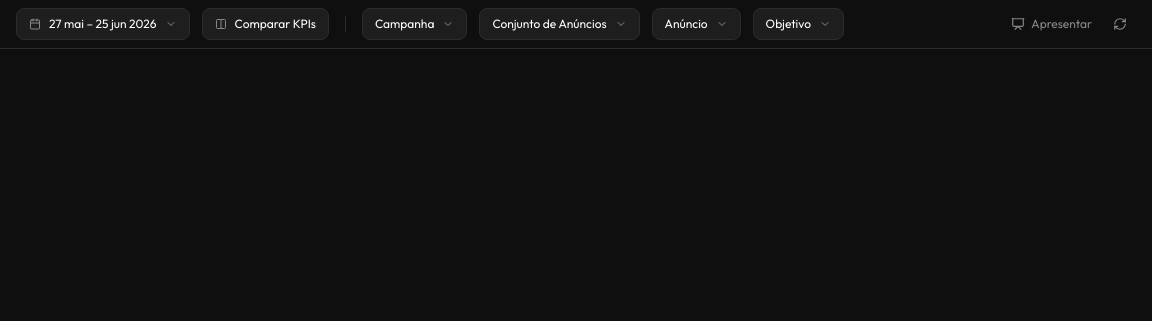
Scenario: FilterBar › busca aparece em listas longas e filtra
Click the button "Campanha" at (415, 24), box [362,8,467,40]
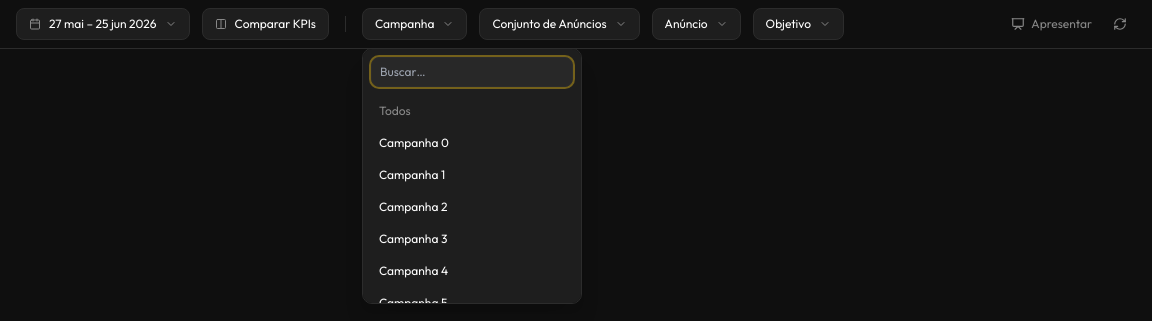
Type "Campanha 7" into the field with placeholder "Buscar…" at (472, 72), box [371,57,573,87]
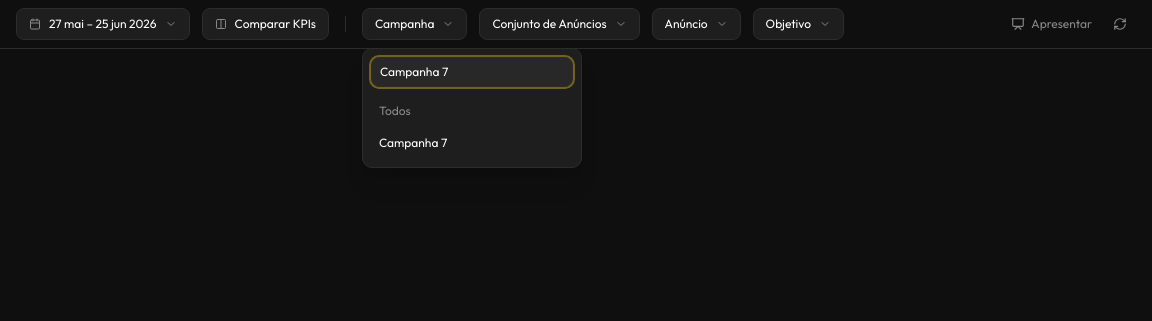
Now the button "Campanha 7" is shown, box [363,127,581,159]
Now the button "Campanha 3" is gone
